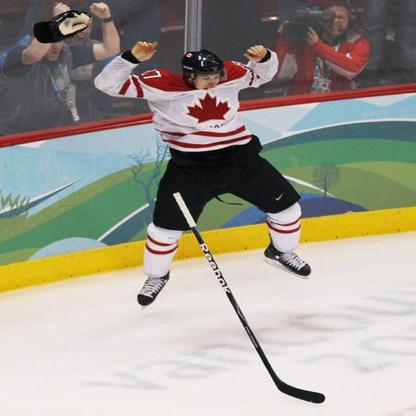face: (45, 28, 70, 63), (329, 7, 350, 34), (198, 69, 223, 91)
